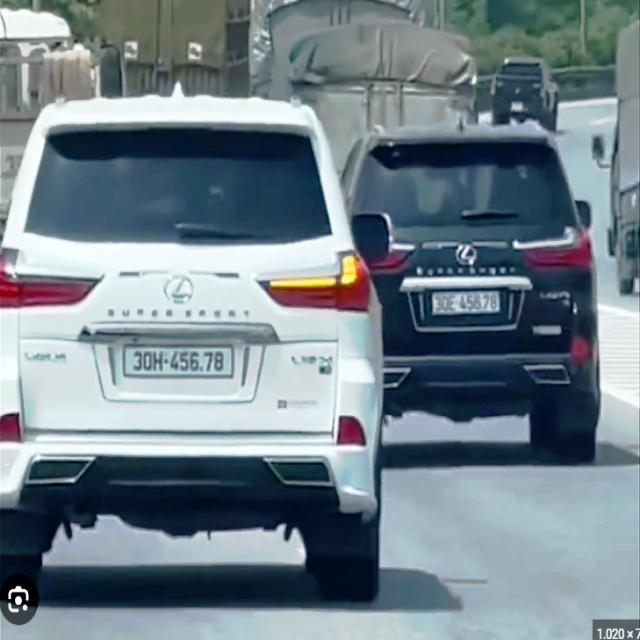license_plate: (126, 347, 233, 377), (434, 293, 503, 314)
